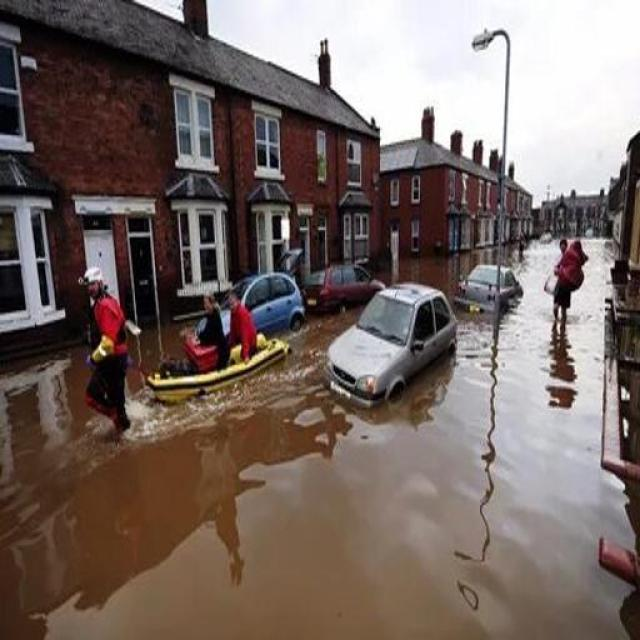rescuer: (69, 258, 151, 458)
